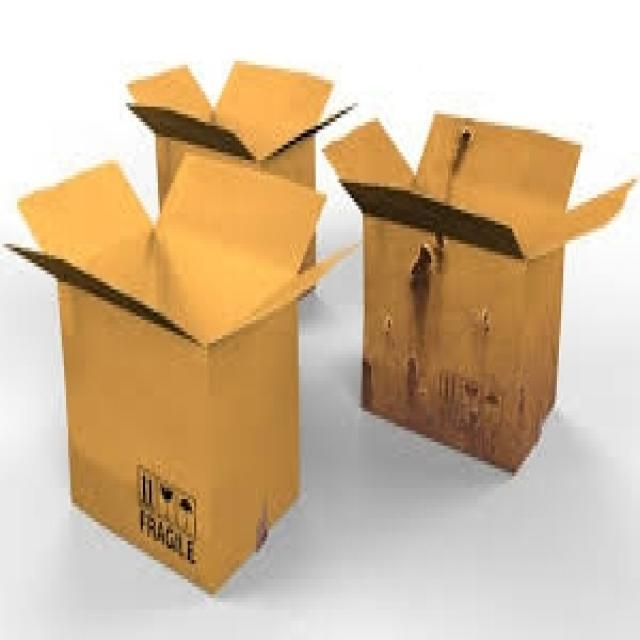cardboard paper: (11, 62, 344, 590), (12, 62, 340, 589), (324, 113, 629, 469), (324, 113, 628, 469)
